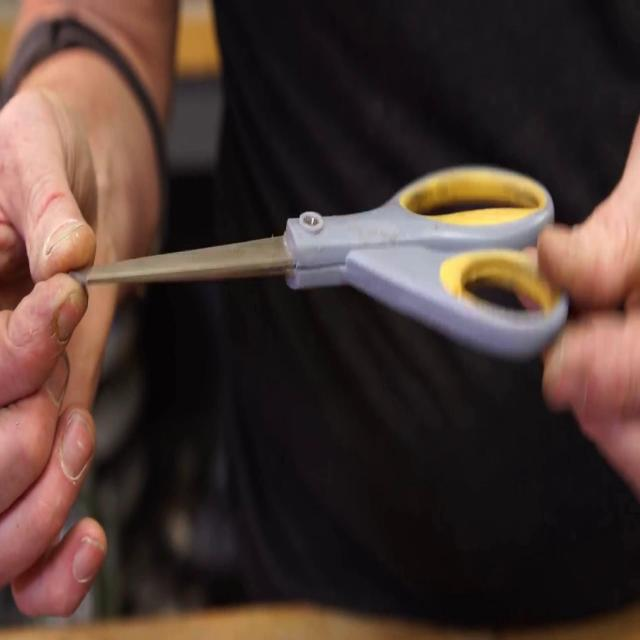scissor: (68, 167, 569, 361)
